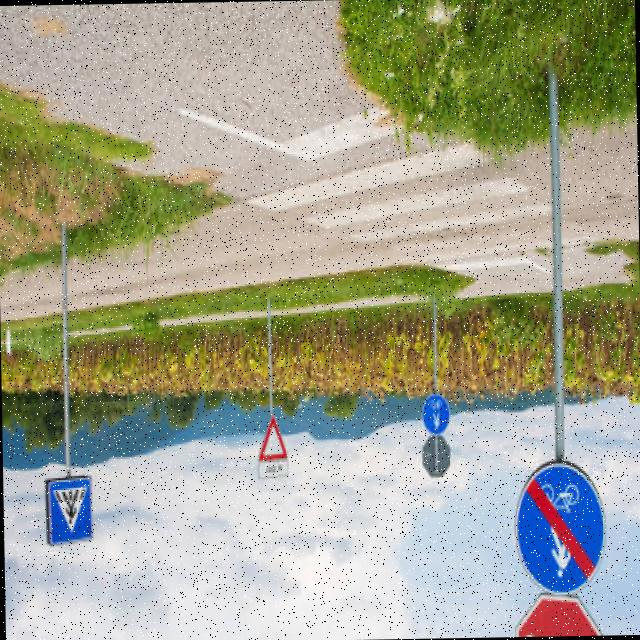give_way: (256, 412, 297, 470)
